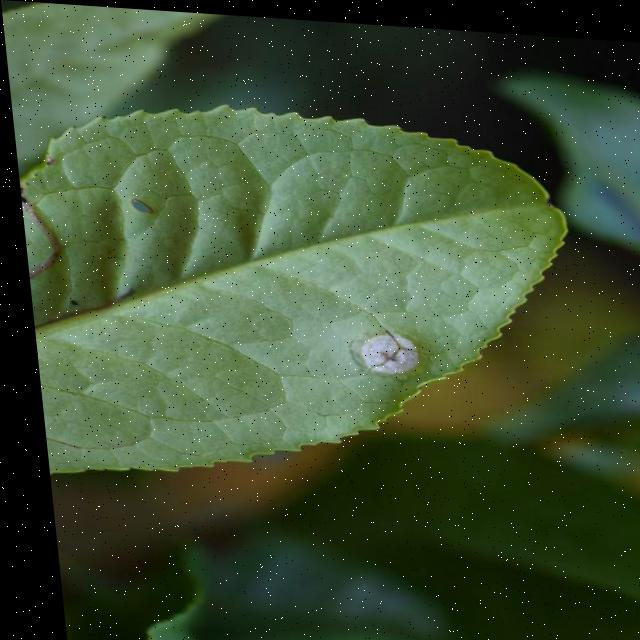Tea cake: (338, 332, 415, 375)
